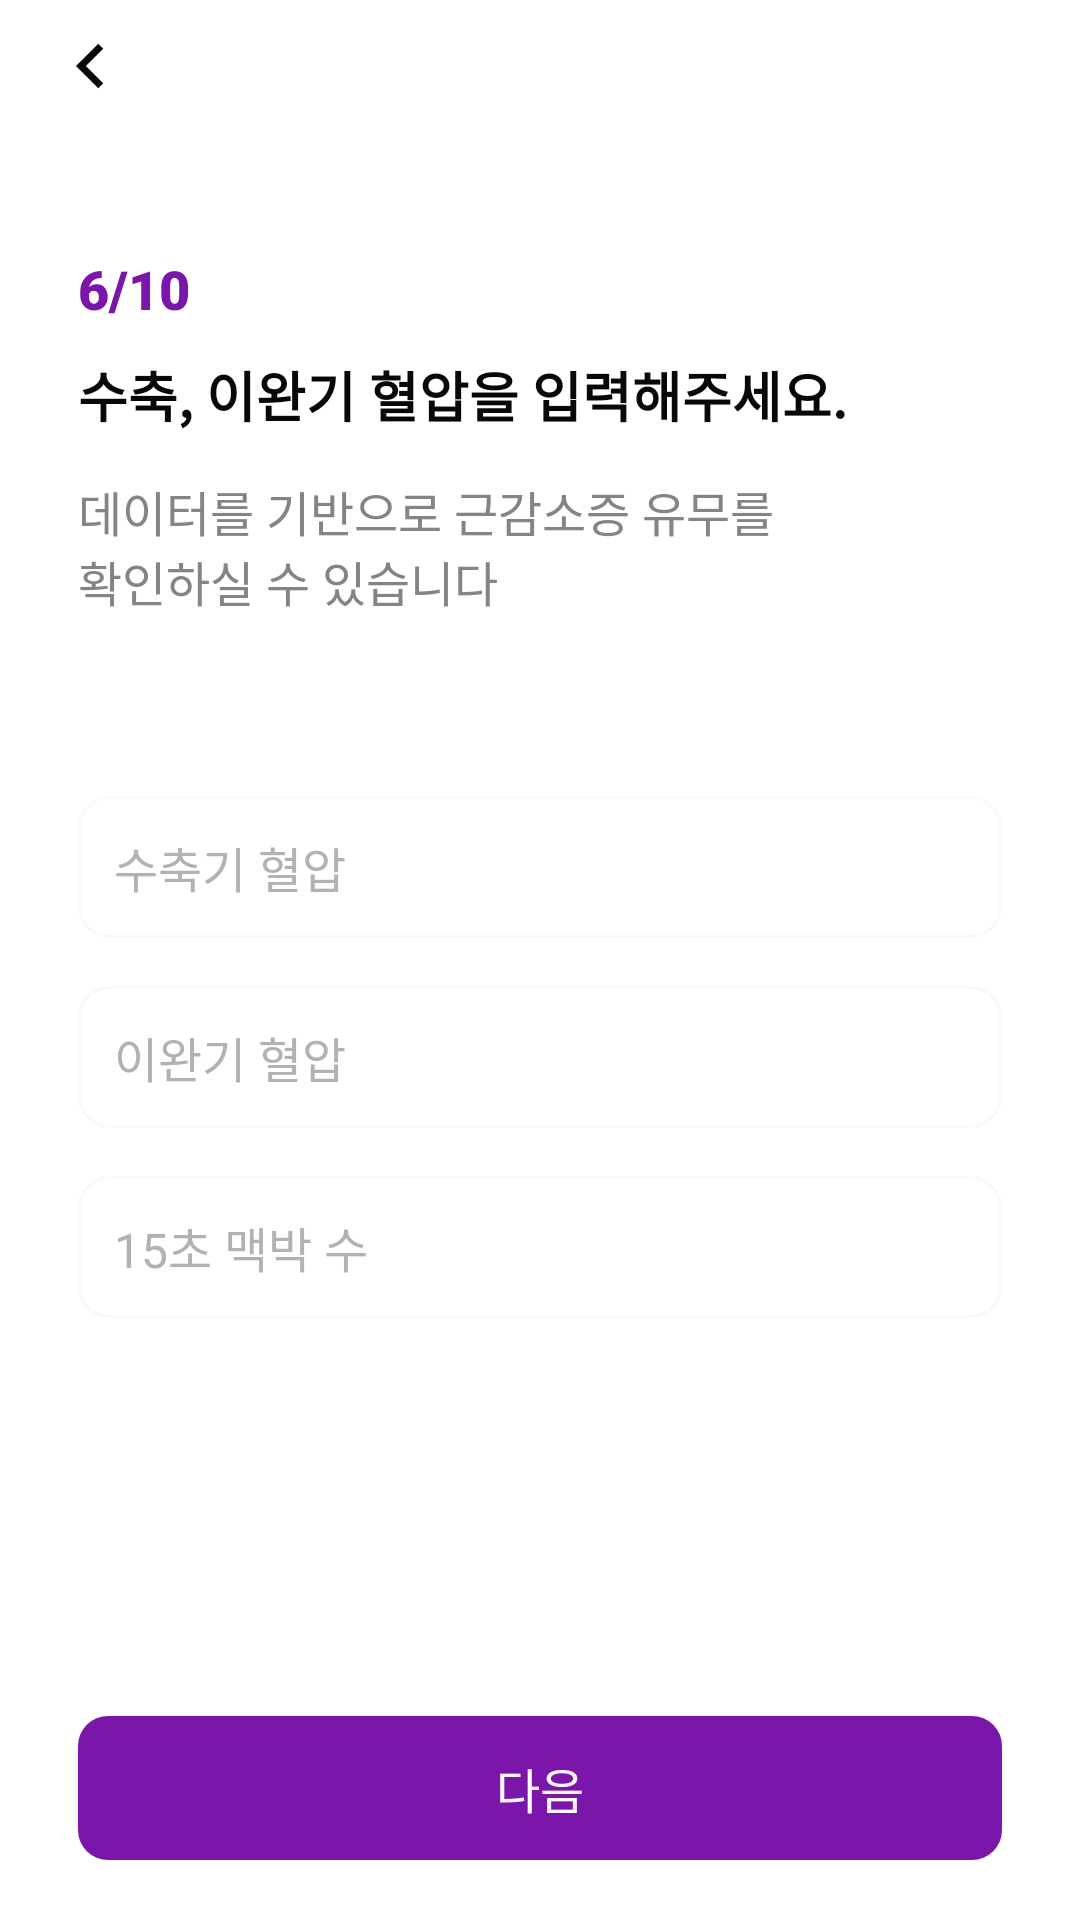

Point at icon controls on the screen. Image size 1080 × 1920, points as [x,y].
arrow: [89,66]
